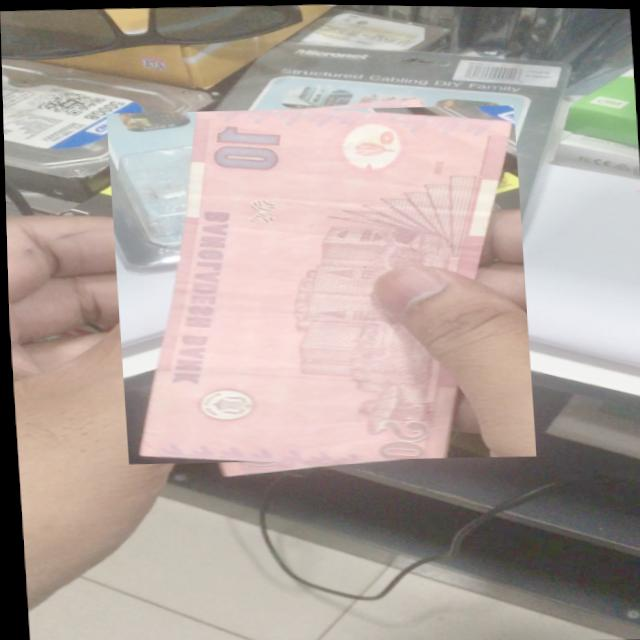Taka: (104, 98, 534, 468)
